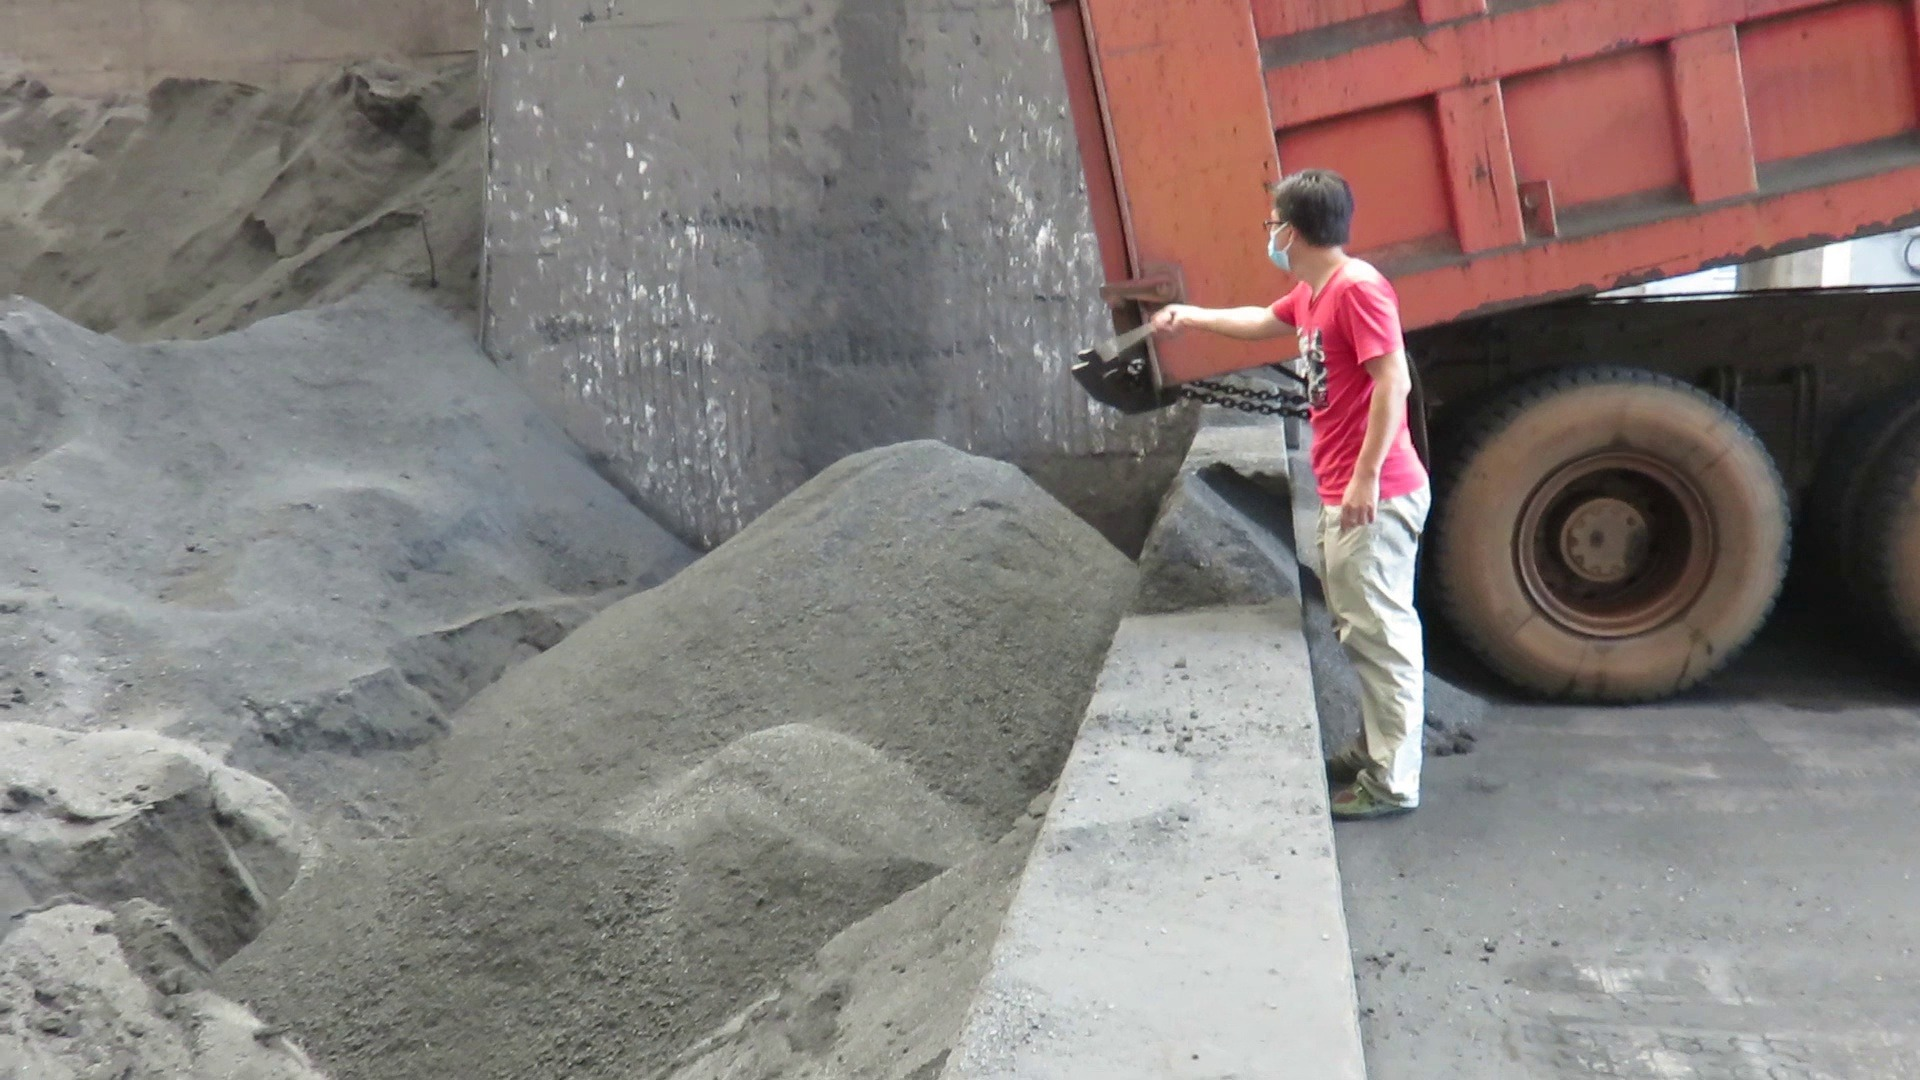truck: (1019, 0, 1920, 727)
